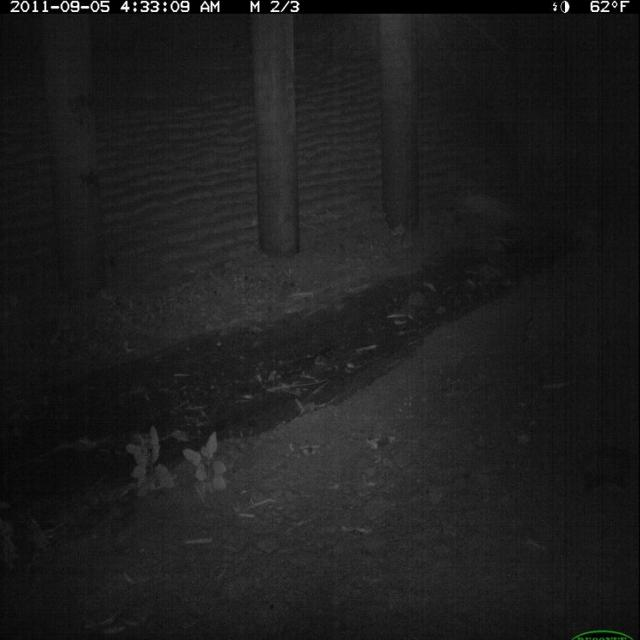opossum: (577, 441, 640, 502)
